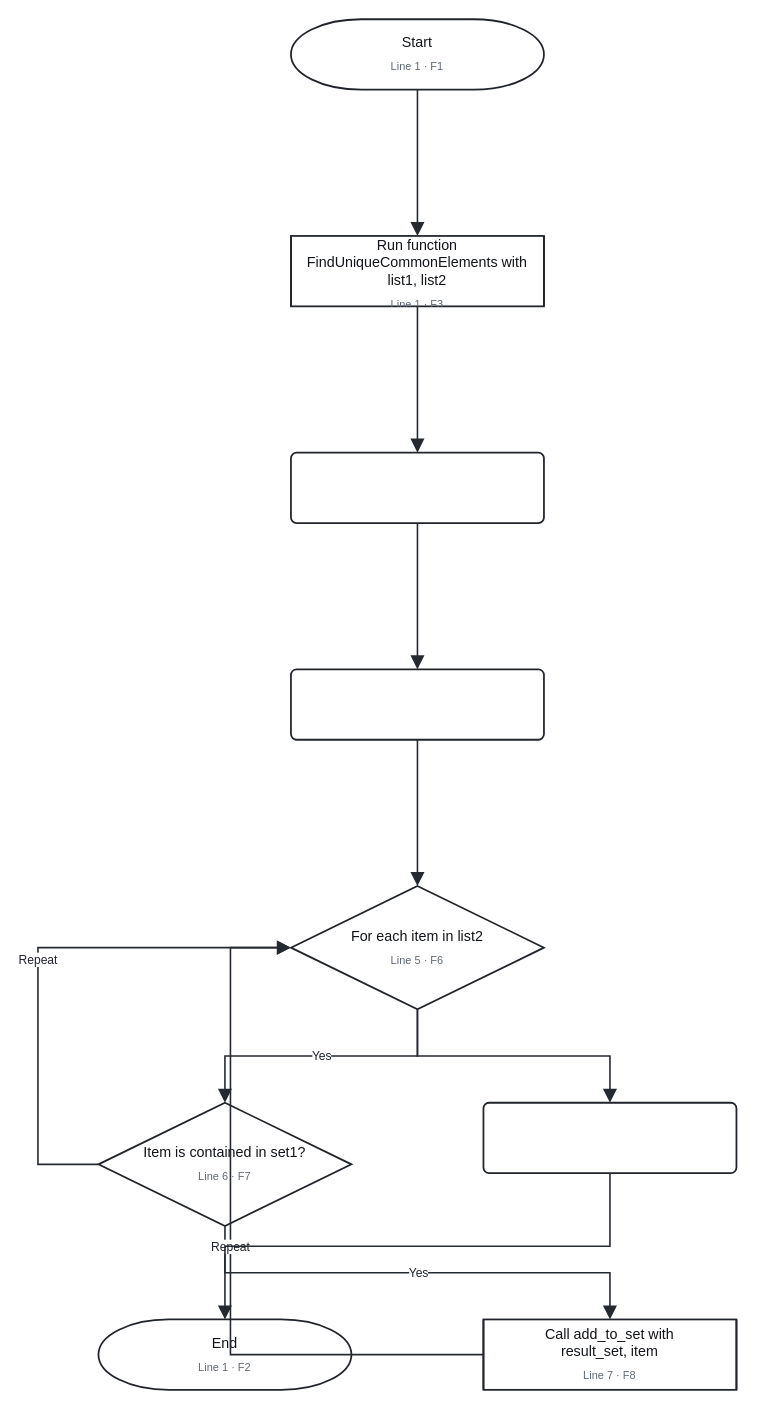
The diagram is 757 pixels wide and 1410 high, and some of its shapes have lost their labels. Each missing label, with the centre of its shape:
Return the result of to_list(result_set) Line 11 · F9: point (609, 1137)
Set result_set to an empty set Line 3 · F5: point (417, 704)
Set set1 to the result of to_set(list1) Line 2 · F4: point (417, 487)
